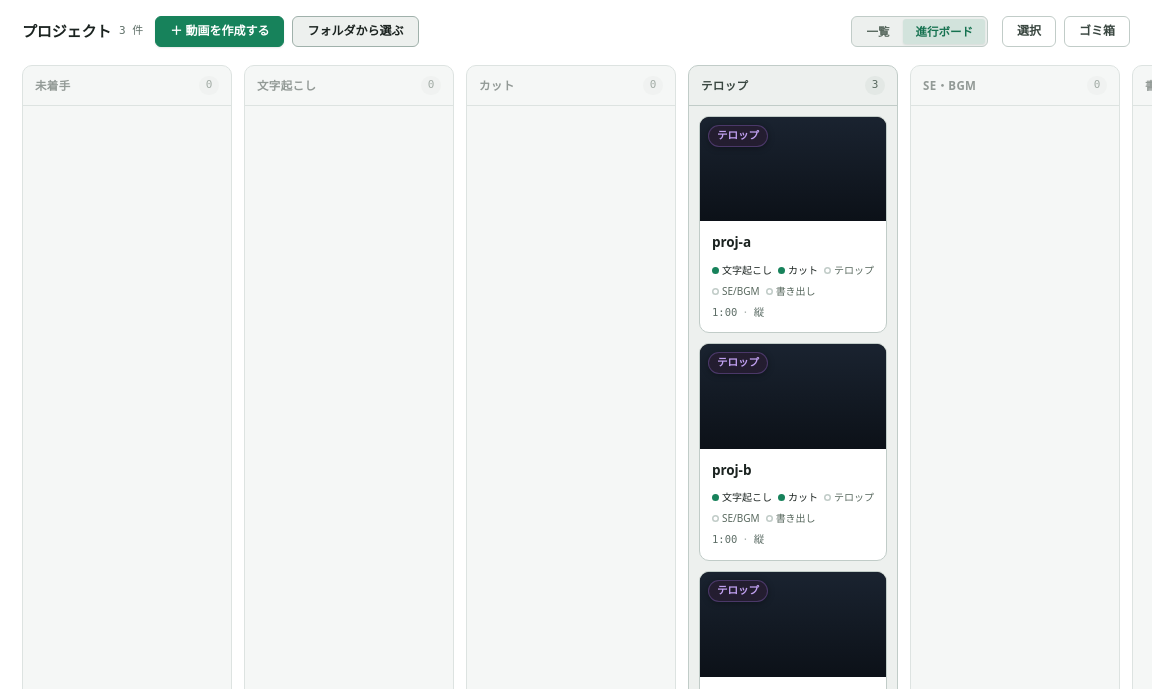
Scenario: 進行ボードの選択モード › 全件がスキップされたら選択モードを抜けない（やり直せる）
The image size is (1152, 689).
Click the button "選択". click: (1029, 32)
box: 1002,16 -> 1056,47
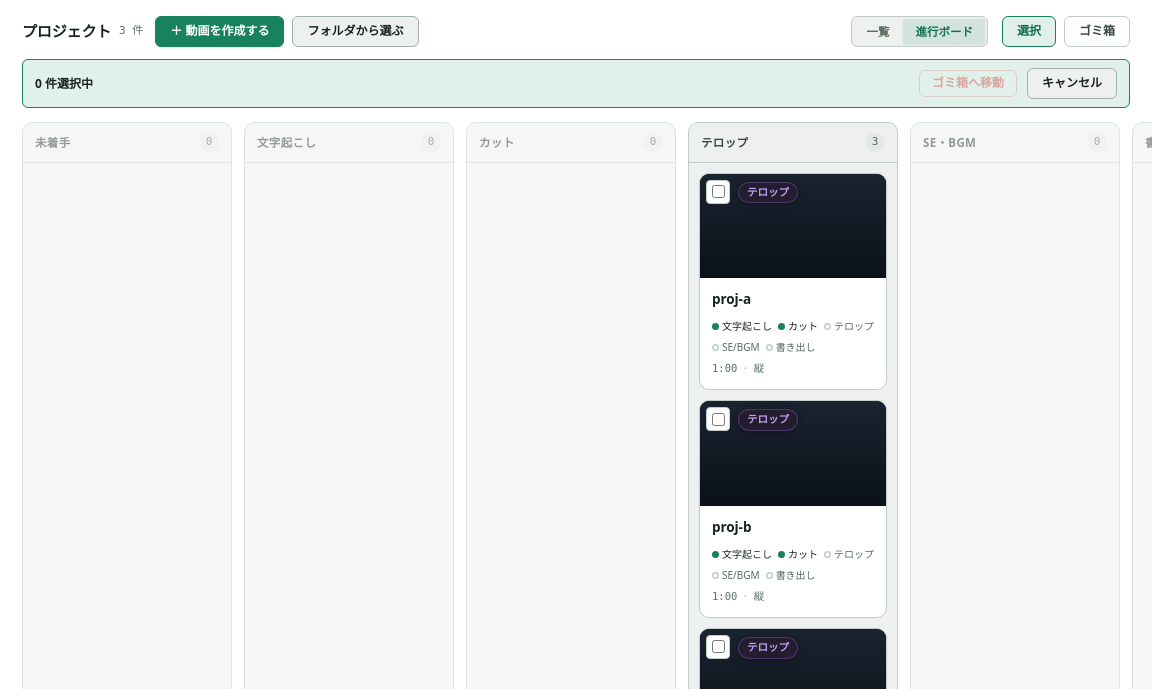
Click the button "proj-a". click: (793, 281)
box: 699,172 -> 887,390
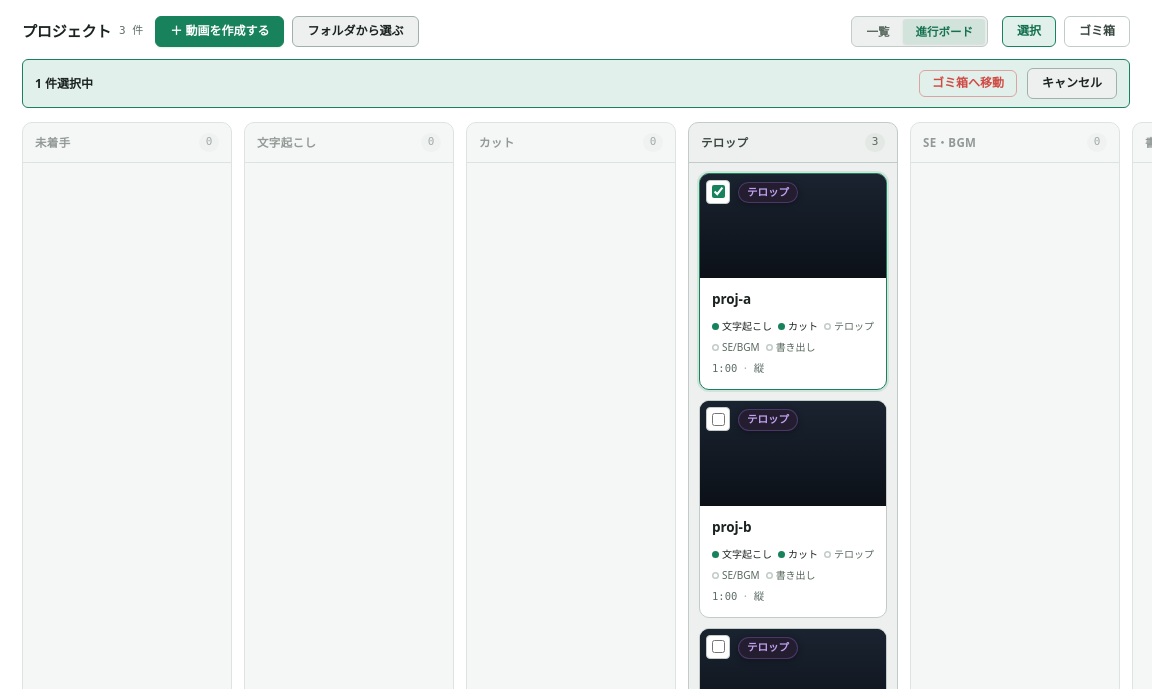
Click the button "proj-b". click: (793, 509)
box: 699,400 -> 887,618
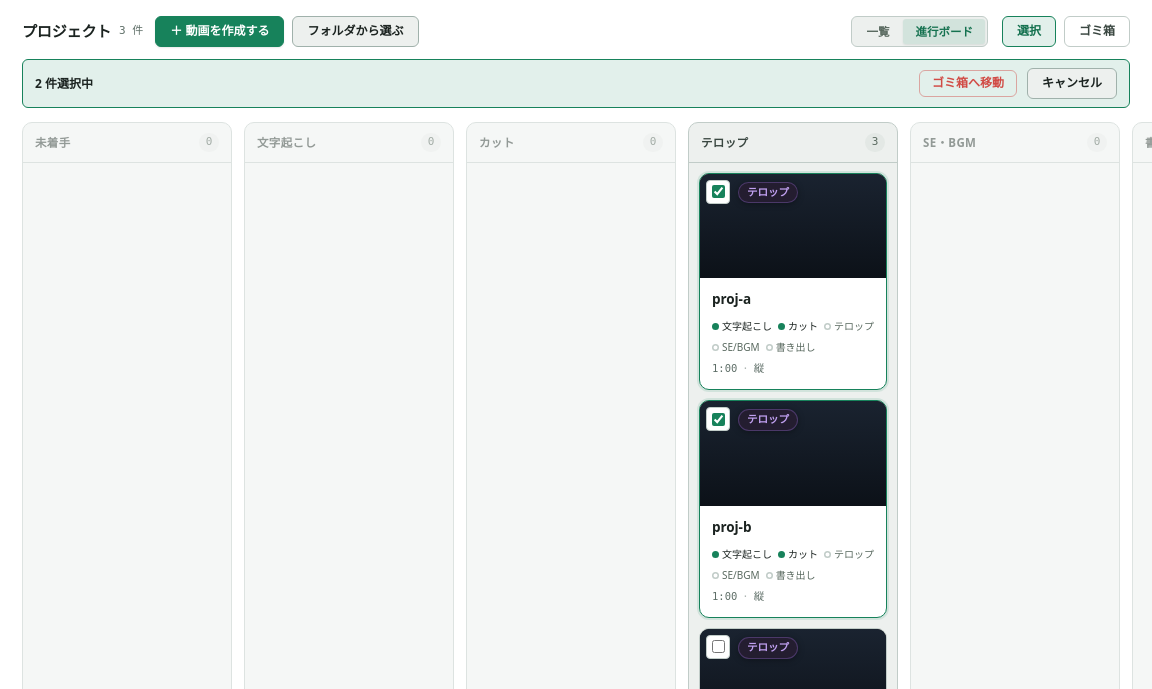
Click the button "ゴミ箱へ移動". click: (968, 84)
box: 919,70 -> 1017,97
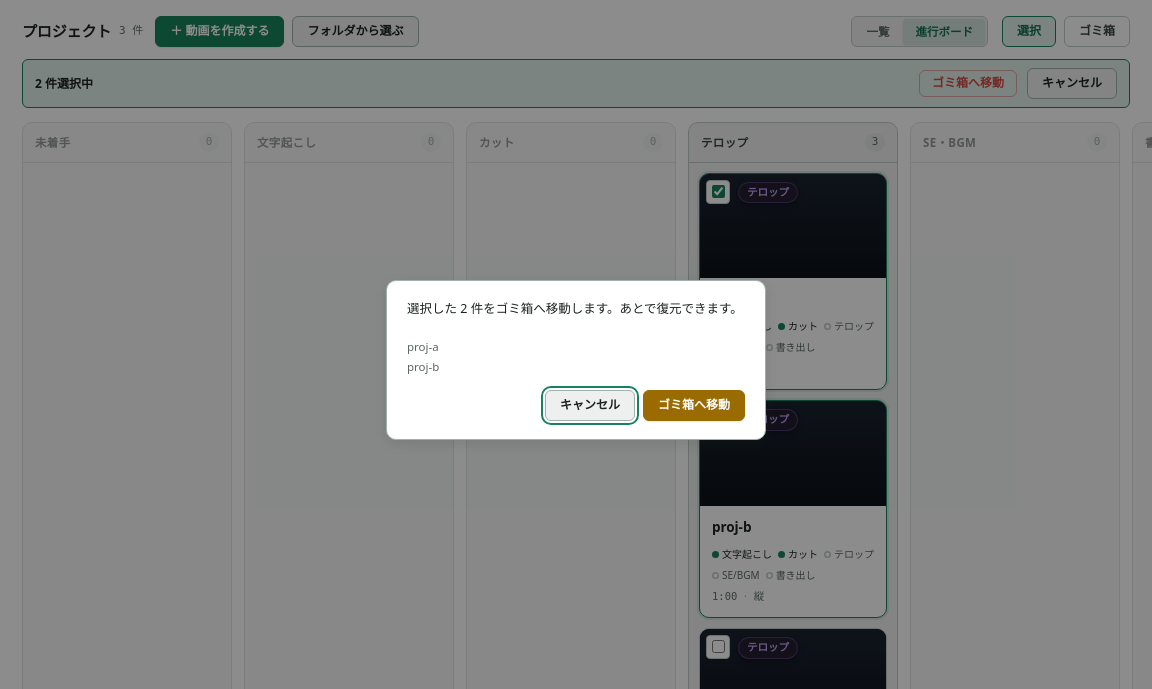
Click the button with test id "trash-confirm-ok". click: (694, 405)
box: 643,390 -> 745,421
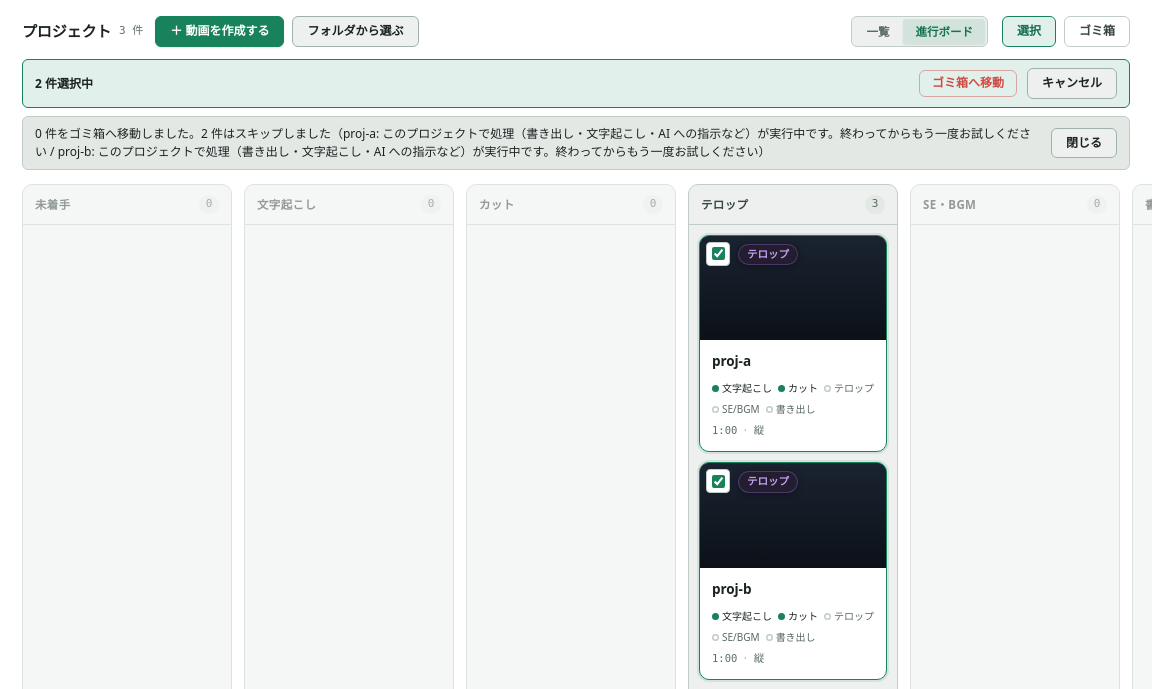
Expected: the message with test id "home-select-bar" shows "2 件選択中", 22,59 -> 1130,108
Expected: the message with test id "home-bulk-notice" shows "0 件をゴミ箱へ移動しました", 35,125 -> 1031,160
